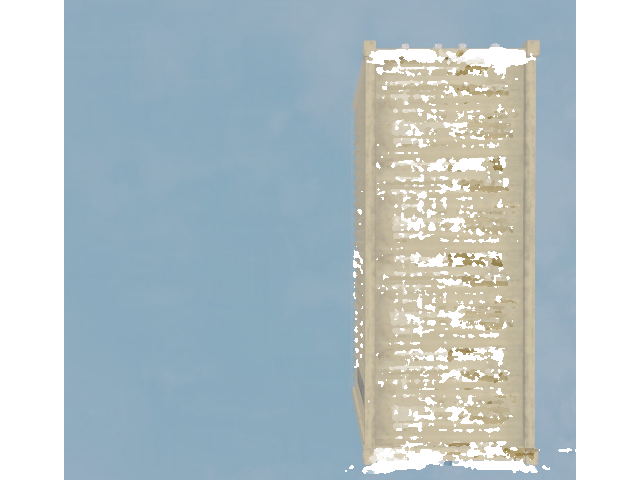container3: (351, 16, 546, 468)
